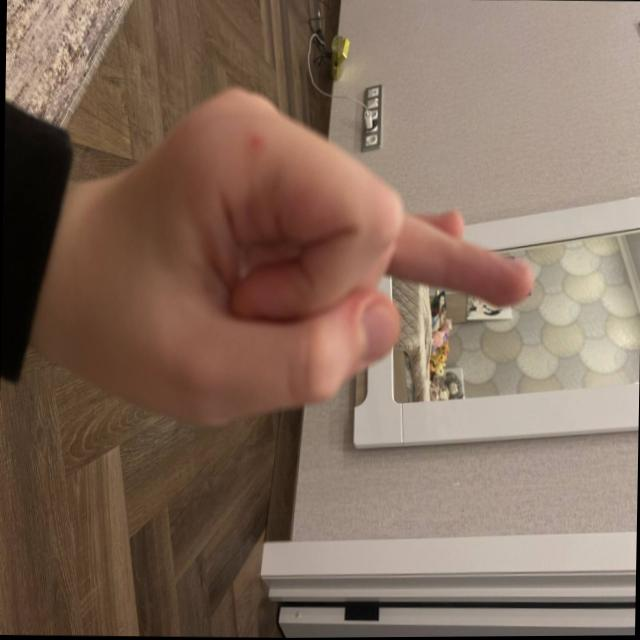i-: (103, 106, 545, 450)
